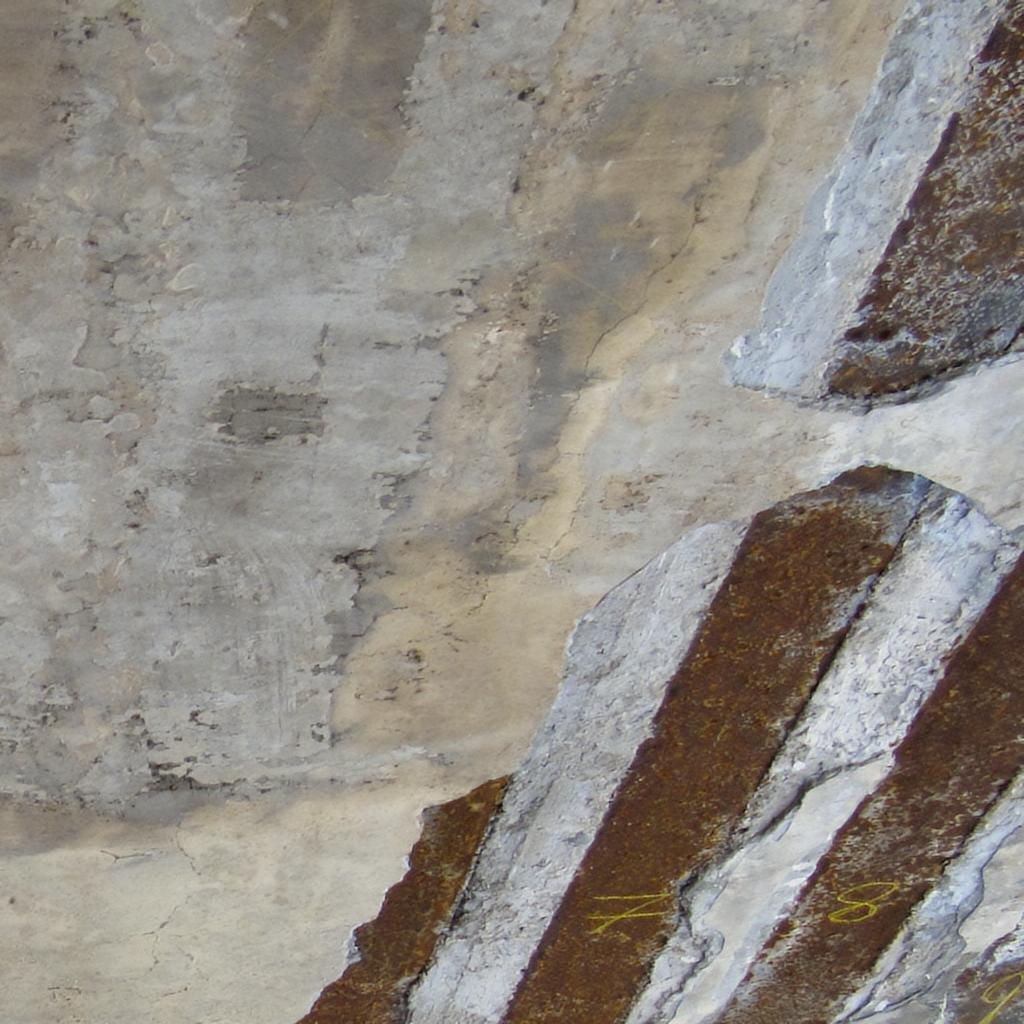exposed_rebar: (502, 468, 928, 1024), (716, 558, 1024, 1024), (830, 0, 1024, 396), (298, 778, 507, 1023), (948, 930, 1024, 1023)
spalling: (300, 466, 1024, 1023), (732, 0, 1024, 399)
